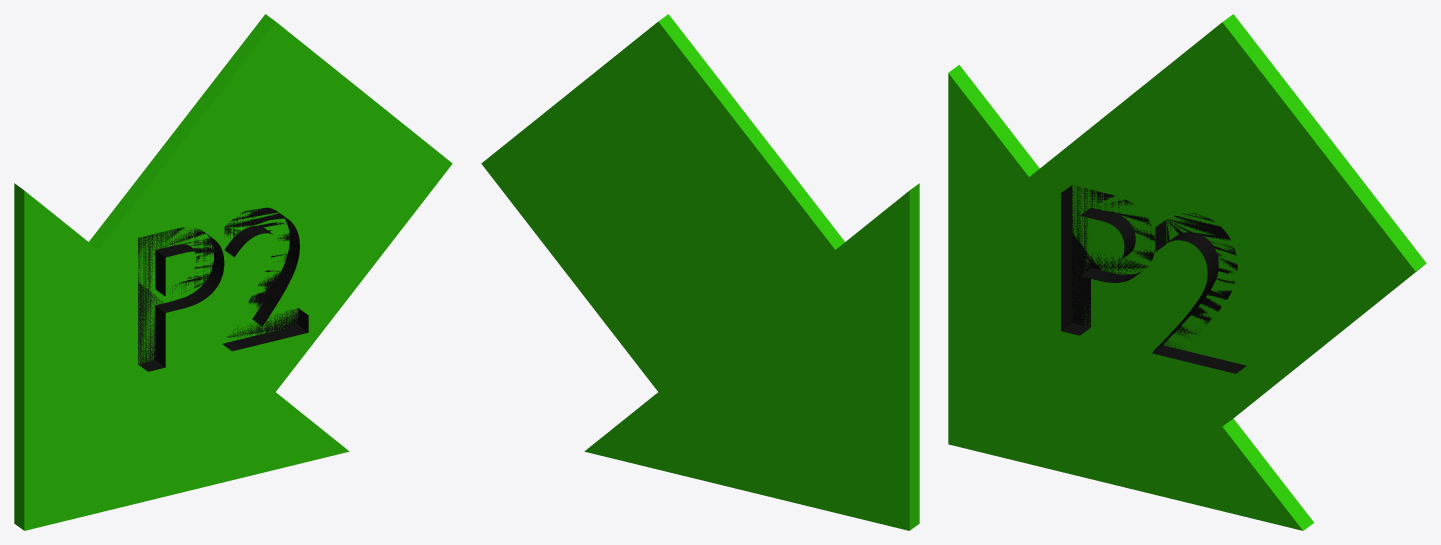
The model's file is Player2.obj.
3 views of the same model, side by side, from view 1: azimuth 30°, elevation 25°; view 2: azimuth 150°, elevation 25°; view 3: azimuth 330°, elevation 25° (orthographic). The views are drawn at different scales.
Visible parts, largest first — view 1: Cube, Cube.001; view 2: Cube; view 3: Cube, Cube.001.
Part boxes in pixels (box(x1,y1,x2,y2)): Cube: box(14, 14, 452, 530); Cube.001: box(138, 207, 308, 371); Cube: box(481, 14, 919, 530); Cube: box(948, 14, 1426, 530); Cube.001: box(1061, 185, 1246, 373).
Bounding box in the file's own units: 2.42 × 2.42 × 0.2.
